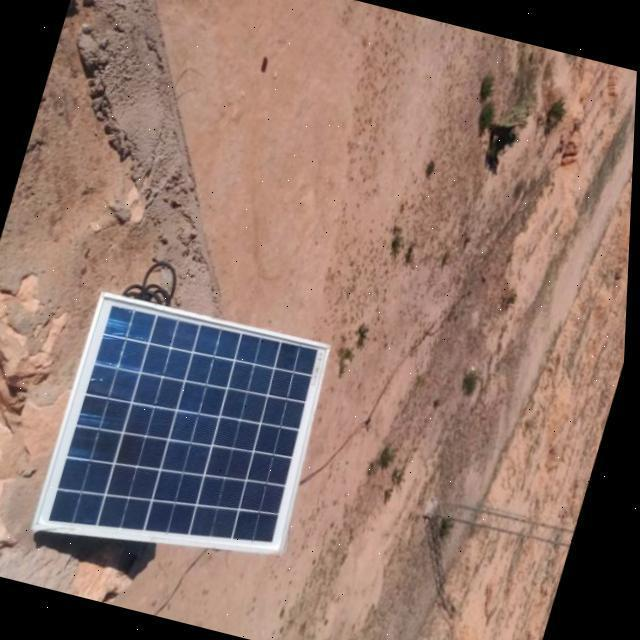Normal Solar Panel: (32, 290, 342, 591)
